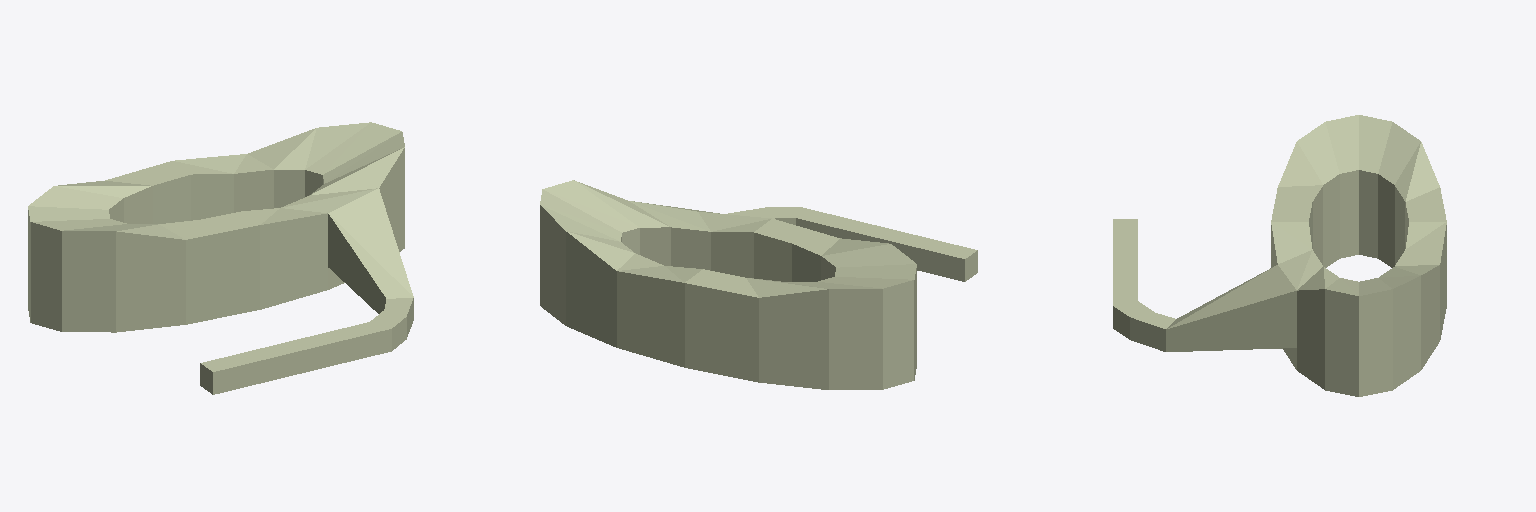
The model's file is course2.obj.
The picture shows the model from 3 angles: view 1: azimuth 30°, elevation 25°; view 2: azimuth 150°, elevation 25°; view 3: azimuth 270°, elevation 25°; orthographic projection.
Visible parts, largest first — view 1: Cube1; view 2: Cube1; view 3: Cube1.
Part boxes in pixels (x1,y1,x2,y2): Cube1: (28, 122, 413, 394); Cube1: (540, 180, 977, 389); Cube1: (1113, 115, 1446, 396).
Bounding box in the file's own units: 34.19 × 8.89 × 26.58.